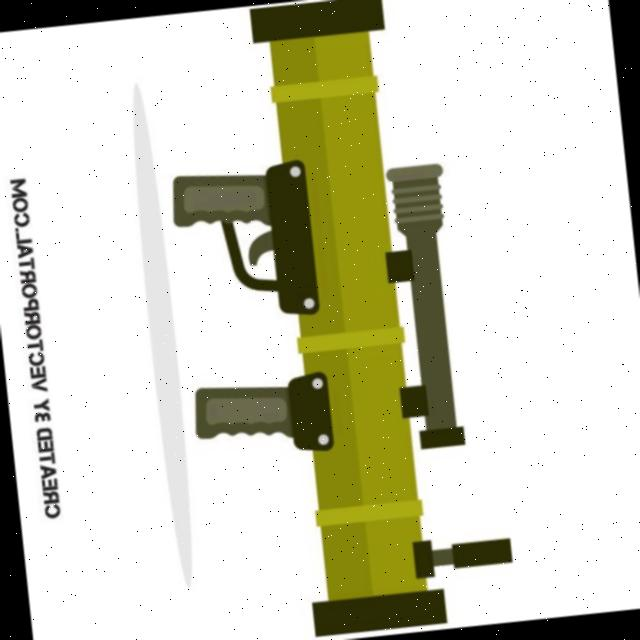Bazooka: (145, 0, 533, 640)
